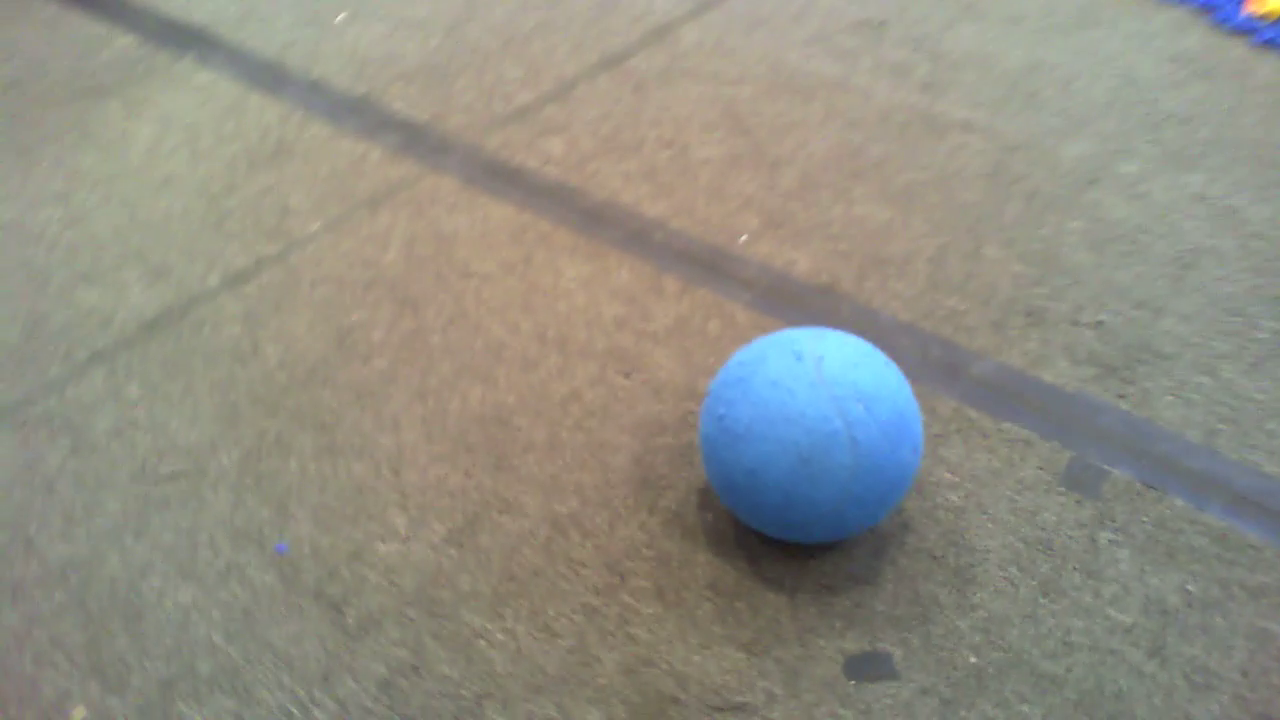blue_cargo: (695, 315, 925, 546)
